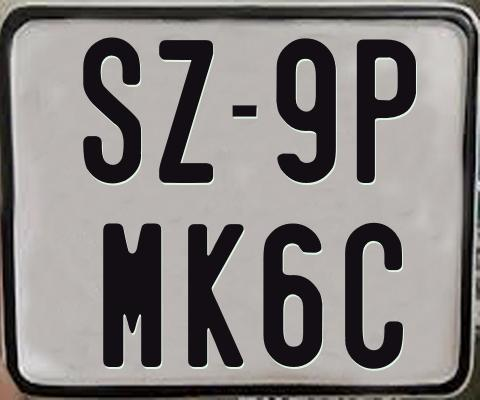6: (263, 221, 323, 367)
9: (276, 36, 341, 187)
C: (343, 221, 407, 373)
K: (187, 224, 246, 368)
M: (102, 223, 162, 372)
P: (356, 39, 417, 184)
S: (81, 35, 140, 183)
Z: (159, 40, 215, 186)
